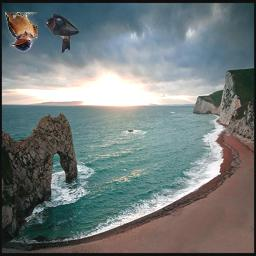Swallow: (45, 13, 79, 53), (5, 12, 38, 52)
